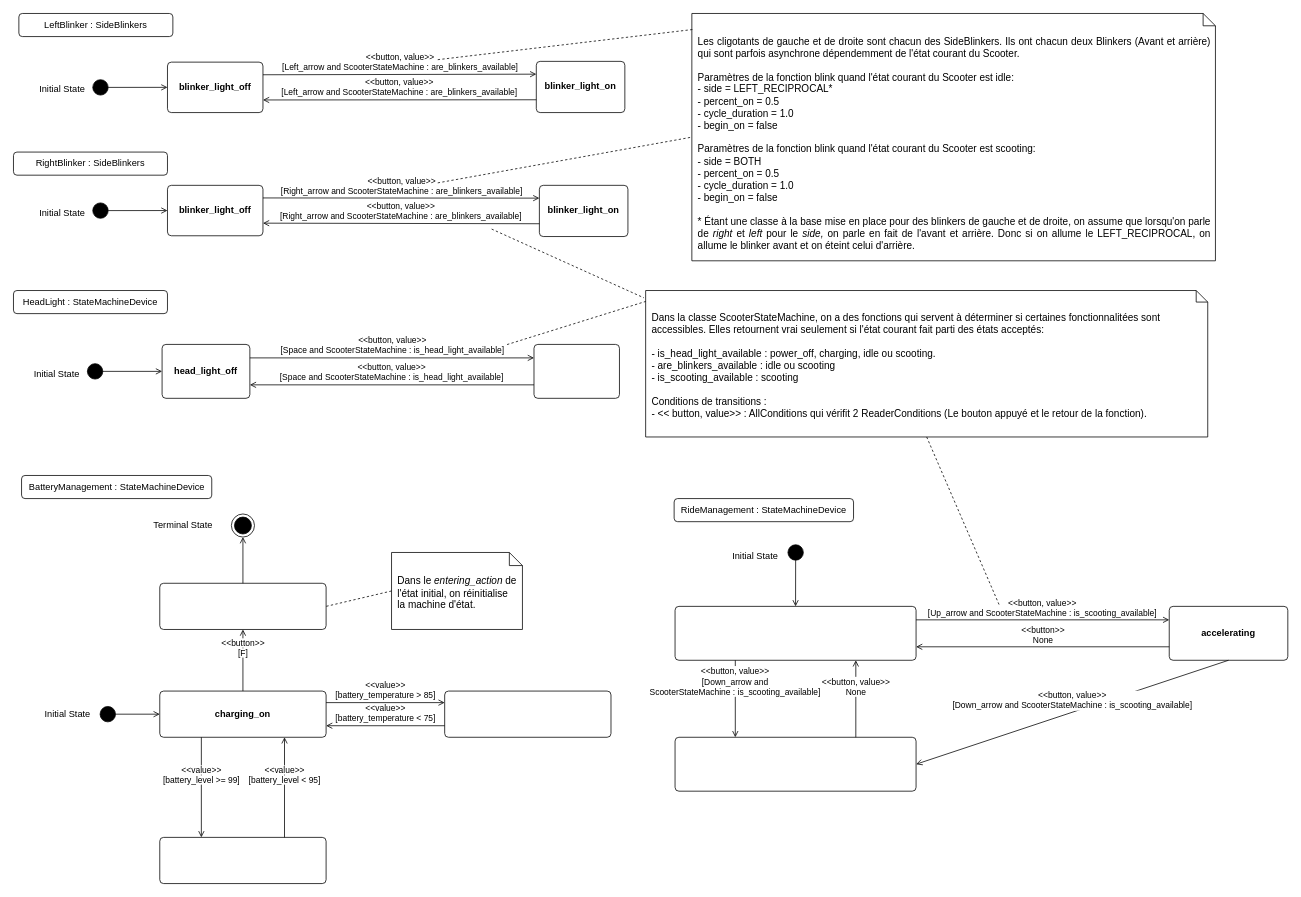
This 1301x897 diagram has some shape labels left out. Each missing label, with the box of its shape:
breaking: (674, 737, 916, 791)
charging_complete: (159, 837, 326, 884)
charging_terminaded: (159, 583, 326, 629)
cooling: (444, 690, 611, 737)
free_wheel: (674, 606, 916, 660)
head_light_on: (533, 344, 619, 398)
